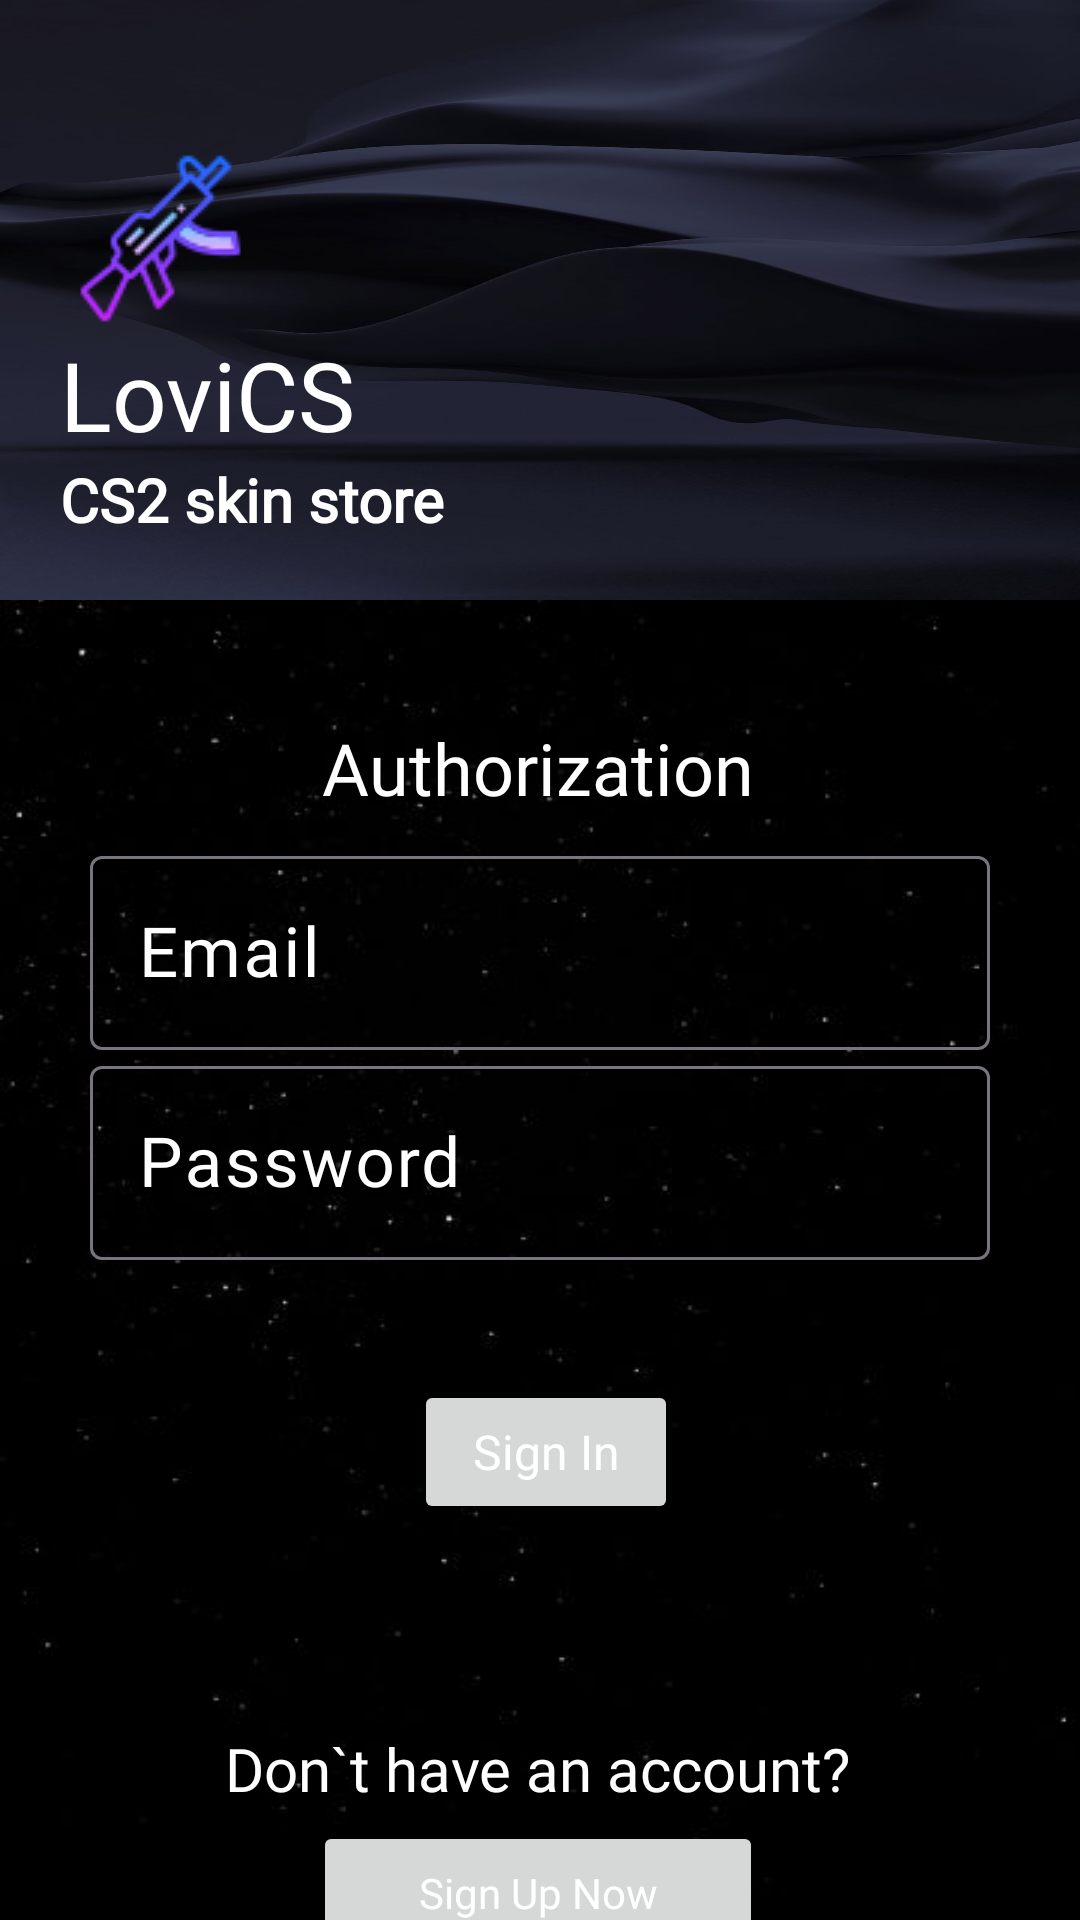

Screen size 1080 x 1920. Icon name, then its center in pixels as [x,y]:
gun: [156,242]
